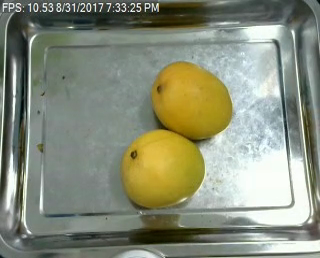Mango: (119, 129, 204, 208), (151, 59, 232, 138)
